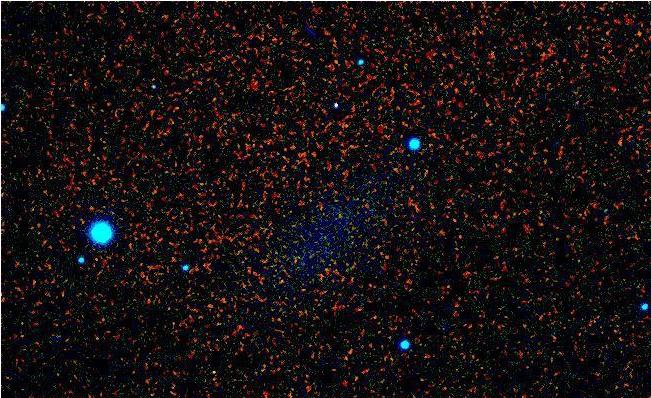star: (195, 359, 225, 389)
